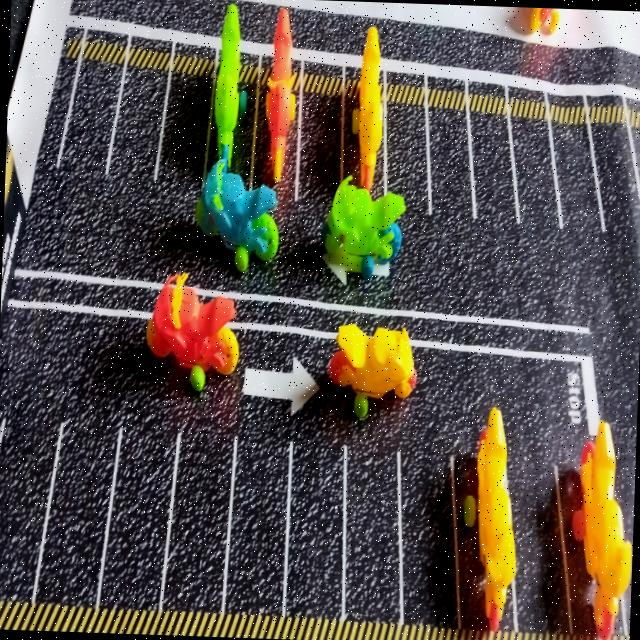bikes: (146, 273, 238, 390), (196, 158, 278, 271), (321, 176, 405, 278), (328, 324, 416, 418)
occupied: (560, 421, 632, 640), (455, 407, 517, 631), (207, 3, 257, 186), (254, 7, 296, 200), (343, 26, 383, 197)
others: (0, 145, 25, 314)
slots: (37, 415, 118, 606), (100, 415, 174, 608), (163, 427, 234, 610), (226, 431, 289, 615), (0, 415, 59, 599), (508, 465, 571, 633), (287, 440, 343, 616), (345, 445, 400, 619), (401, 453, 456, 626), (56, 59, 121, 200), (108, 69, 166, 179), (591, 122, 640, 247), (510, 111, 562, 227), (158, 75, 210, 189), (428, 99, 472, 221), (551, 124, 601, 230), (470, 109, 516, 221), (298, 92, 341, 208), (387, 103, 428, 223)
